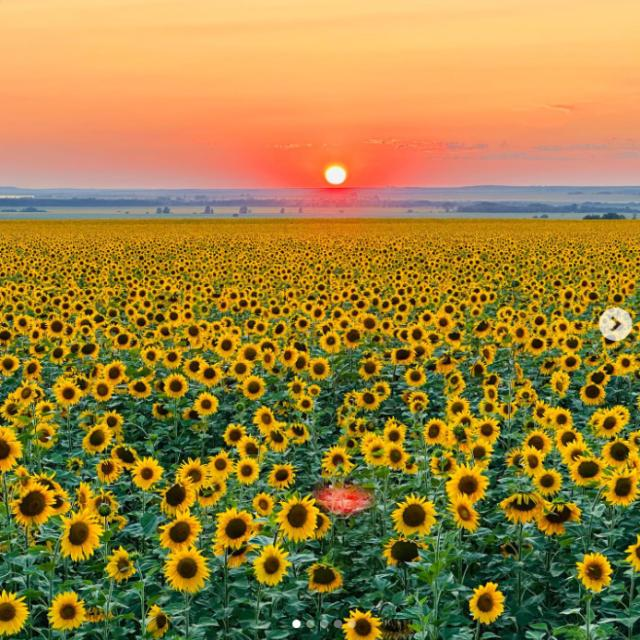sun: (309, 153, 361, 198)
